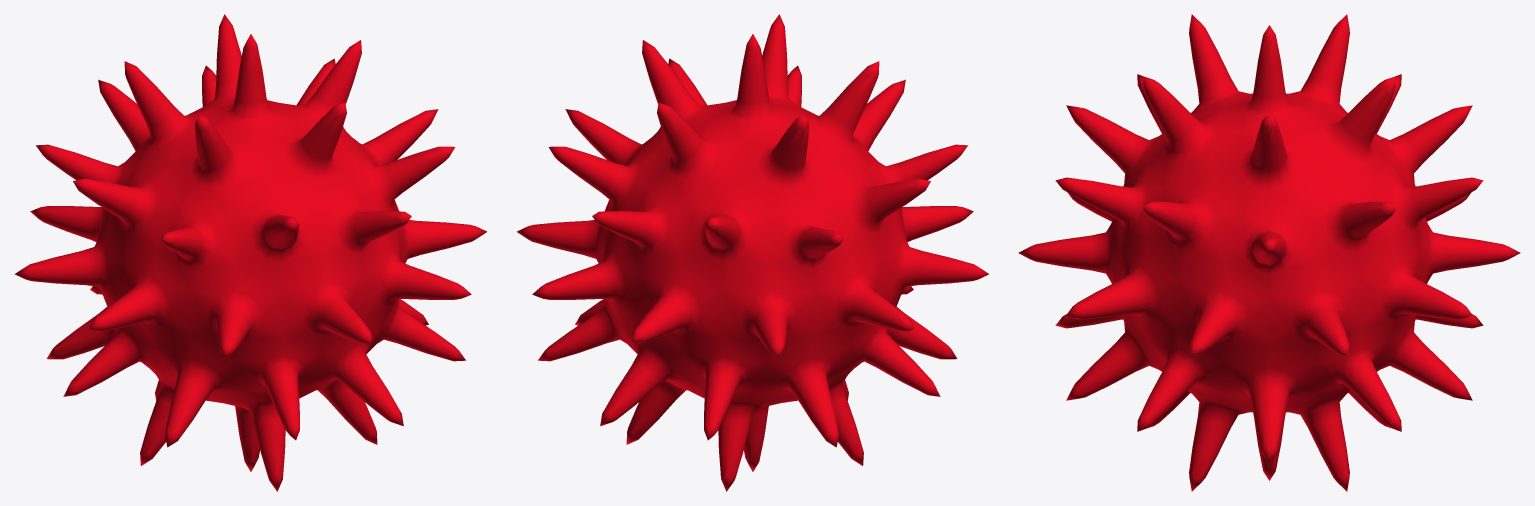
The model's file is enemy red.fbx.
3 views of the same model, side by side, from view 1: azimuth 30°, elevation 25°; view 2: azimuth 150°, elevation 25°; view 3: azimuth 270°, elevation 25° (orthographic). The views are drawn at different scales.
Visible parts, largest first — view 1: Icosphere; view 2: Icosphere; view 3: Icosphere.
Part boxes in pixels (<box>): Icosphere: <box>15,14,486,491</box>; Icosphere: <box>517,14,988,491</box>; Icosphere: <box>1018,14,1520,491</box>.
Bounding box in the file's own units: 282 × 297 × 296.
